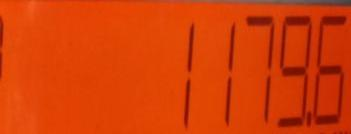0: (304, 110, 314, 128)
2: (221, 21, 237, 126), (182, 19, 196, 128)
7: (315, 14, 348, 126)
8: (242, 12, 276, 126)
:: (278, 15, 312, 129)
